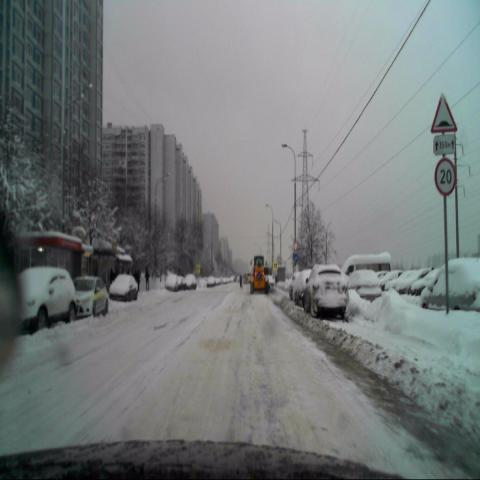3_24: (434, 159, 456, 196)
